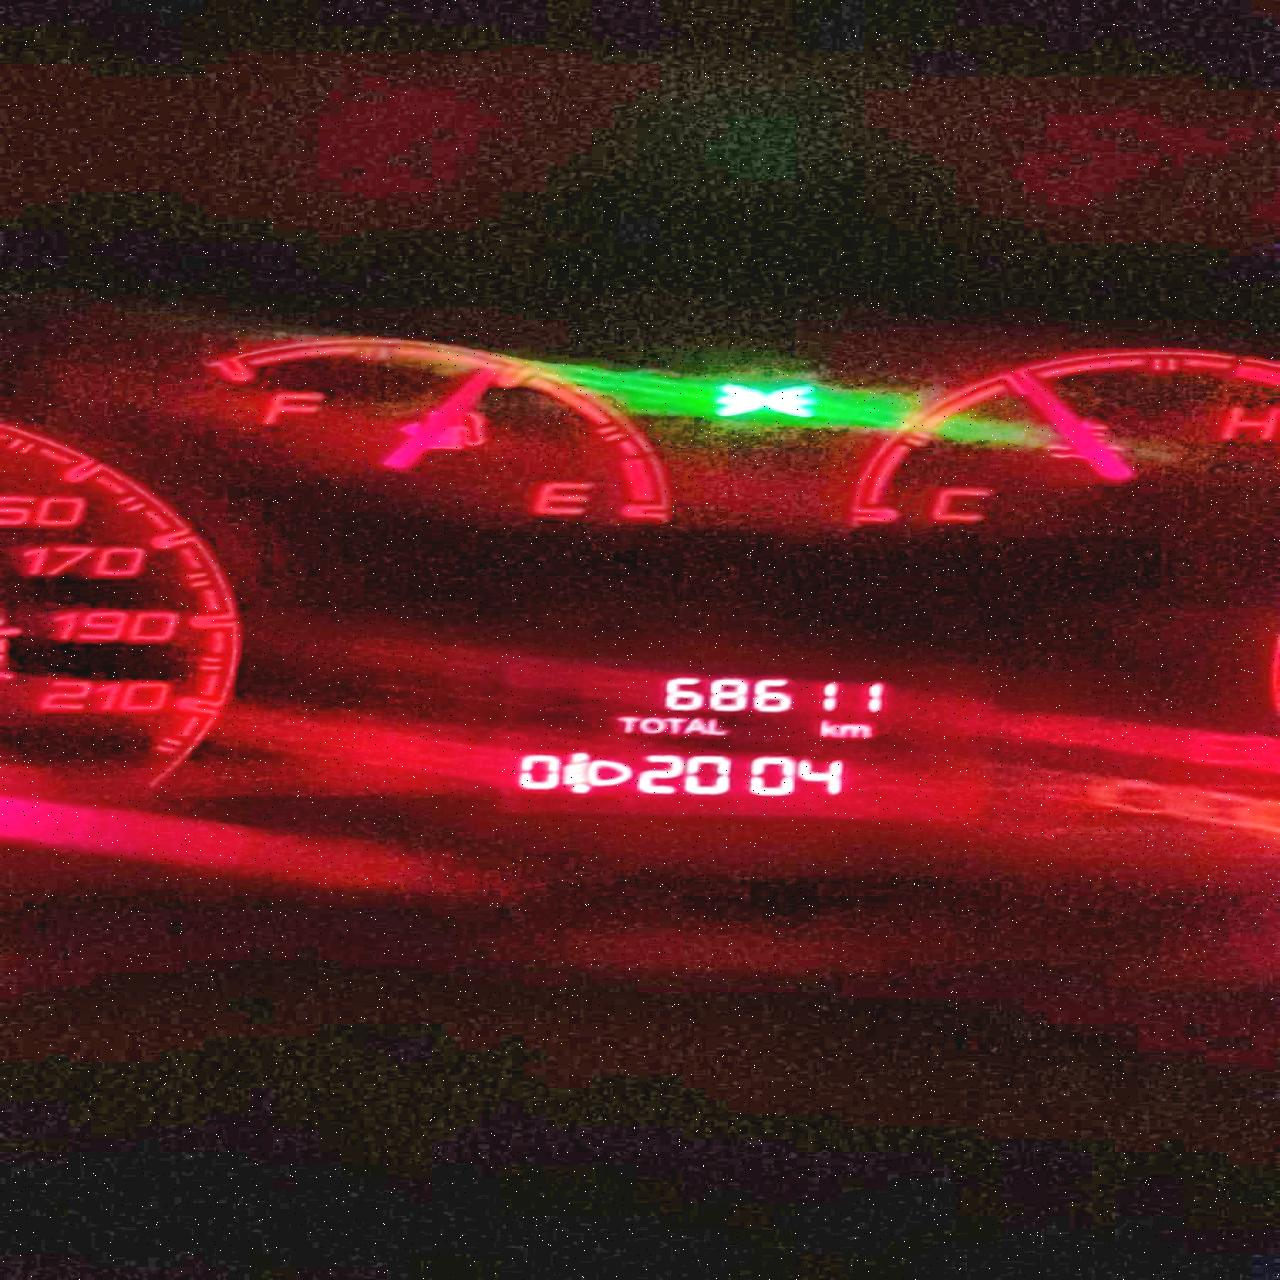0: (750, 755, 792, 798), (687, 754, 730, 795), (515, 753, 560, 789)
1: (864, 679, 891, 715), (816, 676, 839, 714)
2: (639, 753, 685, 795)
4: (795, 756, 847, 798)
6: (663, 674, 704, 709), (754, 678, 791, 713)
8: (708, 676, 749, 714)
X: (613, 713, 639, 734), (839, 722, 873, 737), (818, 719, 839, 740), (686, 717, 706, 737), (707, 716, 727, 736), (641, 714, 662, 733), (663, 716, 685, 733)
odometer: (505, 659, 1008, 828)
